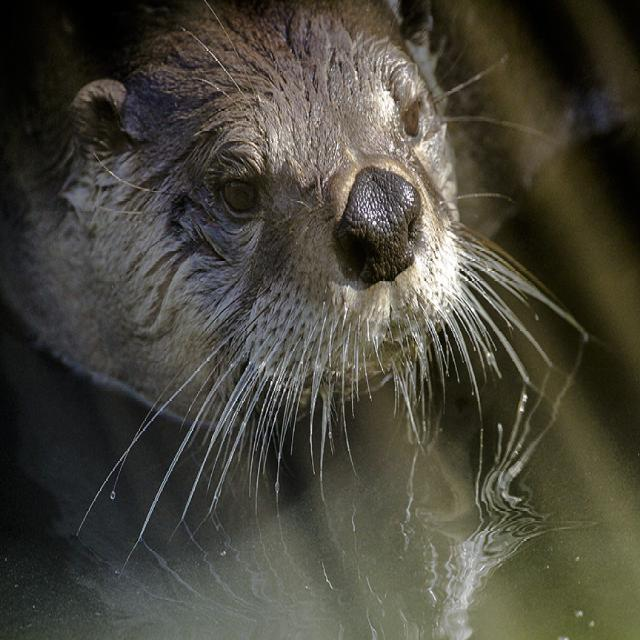otter: (19, 1, 469, 436)
